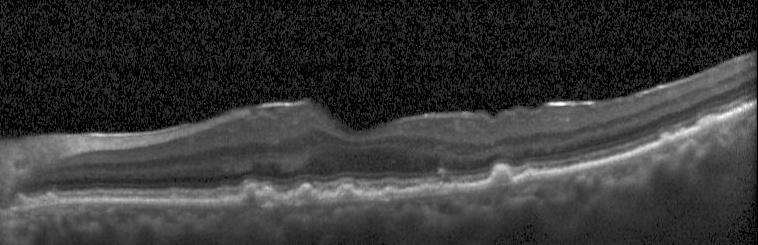retinal_drusen: (16, 193, 58, 209), (243, 186, 271, 203), (491, 168, 511, 186), (295, 188, 317, 202), (338, 188, 358, 203), (699, 115, 720, 129), (524, 171, 540, 182), (661, 134, 674, 146), (418, 187, 434, 196), (384, 191, 395, 199), (171, 195, 179, 204)
